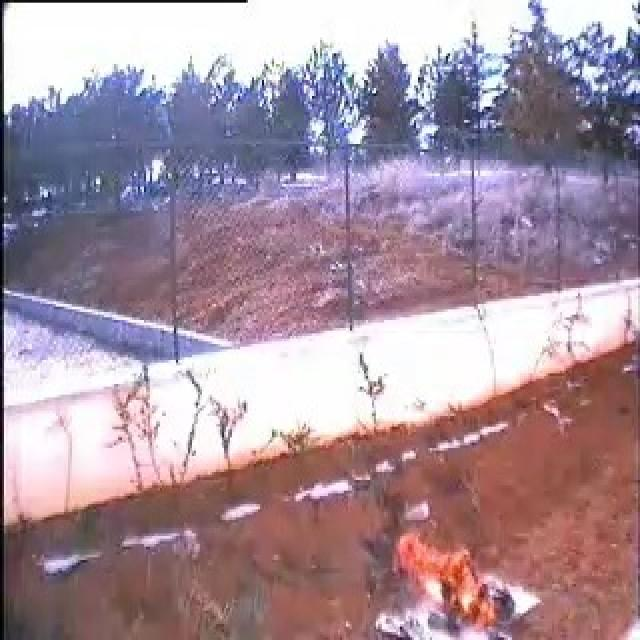fire: (402, 538, 494, 632)
smoke: (382, 496, 397, 558)
